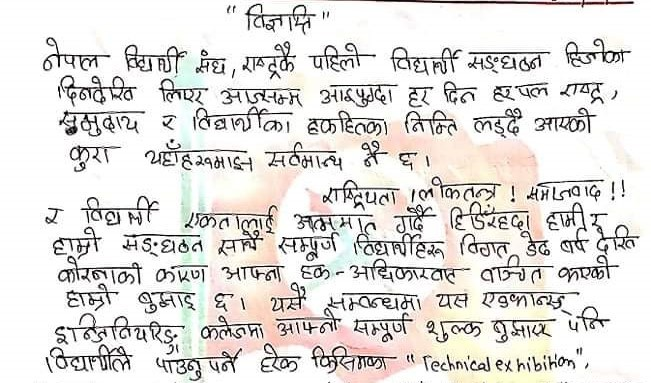text: (141, 137, 255, 176), (51, 311, 182, 344), (188, 104, 292, 137), (345, 258, 460, 287), (350, 230, 446, 262), (153, 349, 243, 383), (181, 203, 280, 232), (56, 107, 144, 139), (446, 201, 531, 234), (41, 346, 134, 376), (52, 258, 144, 287), (55, 74, 136, 106), (304, 108, 390, 138), (316, 78, 399, 109), (308, 344, 393, 374), (464, 45, 548, 75), (480, 286, 570, 314), (242, 2, 316, 36), (388, 42, 462, 76), (320, 178, 398, 210), (263, 142, 345, 172), (416, 174, 503, 202), (41, 35, 103, 74), (118, 230, 204, 258), (82, 194, 157, 226), (325, 288, 424, 312), (240, 40, 298, 80), (291, 210, 377, 235), (121, 42, 188, 74), (532, 106, 597, 138), (217, 84, 303, 108), (564, 38, 628, 70), (524, 177, 604, 202), (469, 106, 524, 142), (352, 312, 410, 345), (489, 315, 555, 344), (198, 315, 265, 343), (310, 40, 365, 74), (135, 286, 197, 316), (423, 315, 484, 345), (476, 260, 546, 286), (556, 254, 612, 286), (276, 233, 341, 260), (402, 109, 460, 139), (218, 259, 284, 285), (157, 74, 207, 108), (490, 79, 551, 106), (269, 316, 341, 338), (50, 226, 101, 257), (68, 142, 116, 174), (458, 234, 511, 260), (557, 79, 608, 106), (545, 201, 588, 233), (214, 230, 262, 258), (564, 306, 611, 334), (596, 224, 639, 254), (256, 346, 300, 375), (63, 286, 114, 311), (268, 285, 309, 316), (393, 204, 432, 235), (152, 264, 209, 284), (192, 48, 228, 77), (436, 80, 476, 106), (519, 232, 554, 258), (358, 137, 384, 171), (433, 289, 471, 312), (297, 259, 334, 282), (559, 230, 588, 257), (404, 85, 431, 109), (208, 288, 234, 312), (40, 204, 64, 227), (395, 147, 419, 169), (156, 112, 179, 132), (588, 208, 607, 227)
